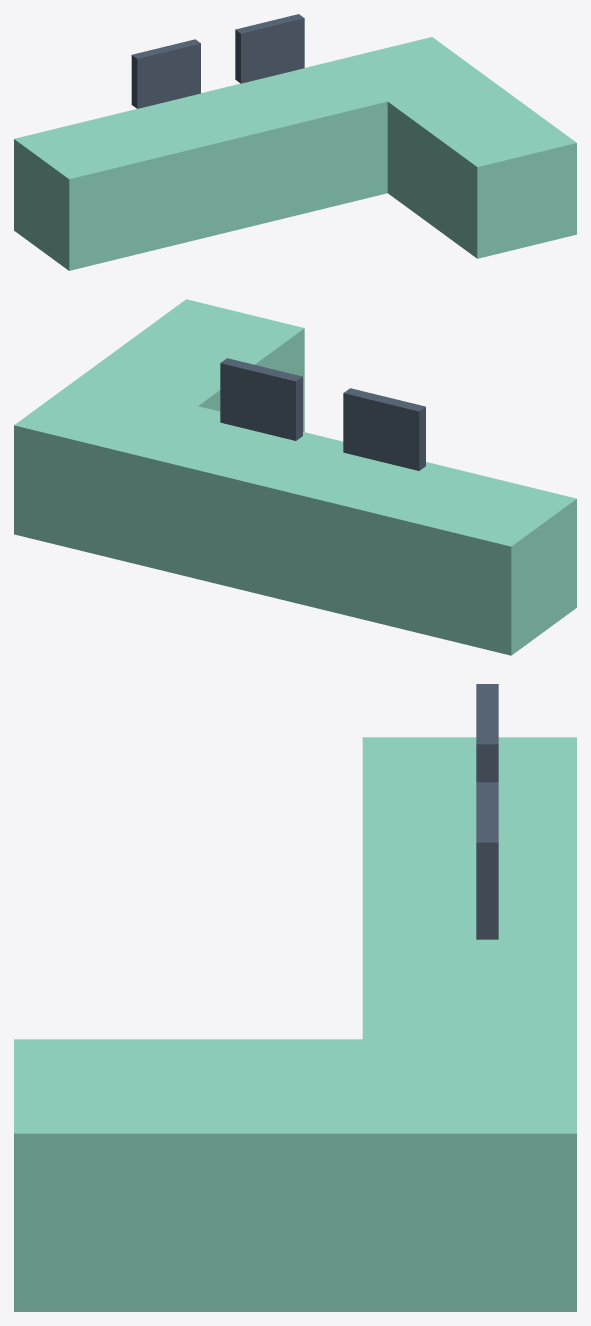
File: nurse_counter.glb
The picture shows the model from 3 angles, top to bottom: view 1: azimuth 30°, elevation 25°; view 2: azimuth 150°, elevation 25°; view 3: azimuth 270°, elevation 25°; orthographic projection. The views are drawn at different scales.
Visible parts, largest first — view 1: long curved nurse counter front, perpendicular return counter wing, monitor two, monitor one; view 2: long curved nurse counter front, perpendicular return counter wing, monitor one, monitor two; view 3: perpendicular return counter wing, long curved nurse counter front, monitor two, monitor one.
Boxes of the visible parts, bbox=[...] form: long curved nurse counter front: bbox=[14, 37, 486, 270]; perpendicular return counter wing: bbox=[335, 40, 576, 258]; monitor two: bbox=[235, 14, 304, 83]; monitor one: bbox=[131, 39, 200, 108]; long curved nurse counter front: bbox=[14, 377, 576, 655]; perpendicular return counter wing: bbox=[17, 299, 304, 431]; monitor one: bbox=[343, 388, 425, 470]; monitor two: bbox=[220, 358, 302, 440]; perpendicular return counter wing: bbox=[14, 1039, 567, 1311]; long curved nurse counter front: bbox=[362, 737, 576, 1311]; monitor two: bbox=[476, 782, 498, 939]; monitor one: bbox=[476, 684, 498, 782].
Bounding box in the file's own units: 1.05 × 0.4 × 0.63.
